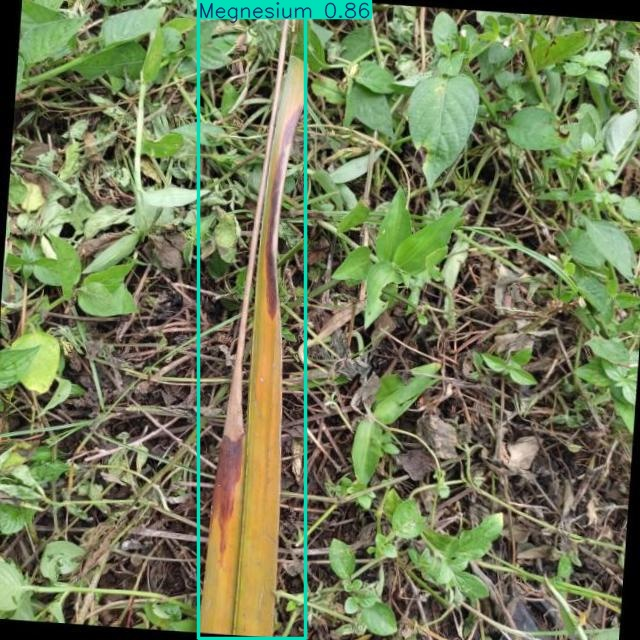Megnesium: (199, 0, 306, 639)
